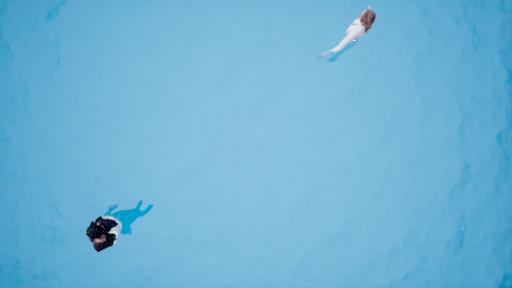person: (74, 195, 158, 255), (316, 13, 387, 61)
